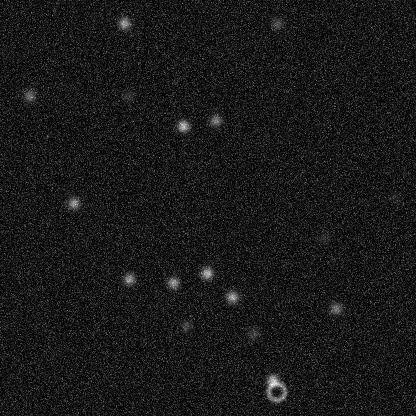Ring: (264, 379, 288, 403)
Spot: (165, 274, 181, 290), (120, 87, 136, 103), (207, 112, 223, 128), (224, 288, 240, 304), (264, 372, 280, 388), (198, 265, 214, 281), (315, 229, 331, 245), (120, 271, 136, 287), (175, 117, 191, 133), (328, 300, 344, 316), (246, 325, 262, 341), (65, 195, 81, 211), (178, 317, 194, 333), (269, 15, 285, 31), (386, 189, 402, 205), (21, 87, 37, 103), (116, 15, 132, 31)
